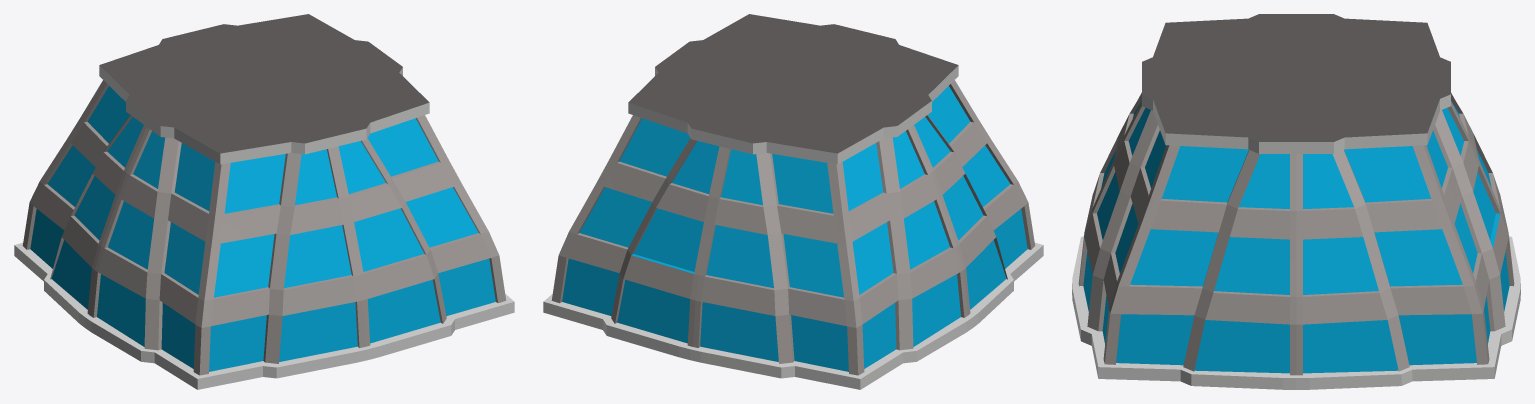
The model's file is Building_12.fbx.
The picture shows the model from 3 angles, left to right: view 1: azimuth 30°, elevation 25°; view 2: azimuth 150°, elevation 25°; view 3: azimuth 270°, elevation 25°; orthographic projection. The views are drawn at different scales.
Visible parts, largest first — view 1: skyscraper2-part-shrinkage; view 2: skyscraper2-part-shrinkage; view 3: skyscraper2-part-shrinkage.
Part boxes in pixels (x1=…): skyscraper2-part-shrinkage: x1=14, y1=14, x2=514, y2=389; skyscraper2-part-shrinkage: x1=543, y1=14, x2=1043, y2=389; skyscraper2-part-shrinkage: x1=1072, y1=14, x2=1520, y2=389.
Size of the model in its own units: 3.49 by 1.86 by 3.49.
